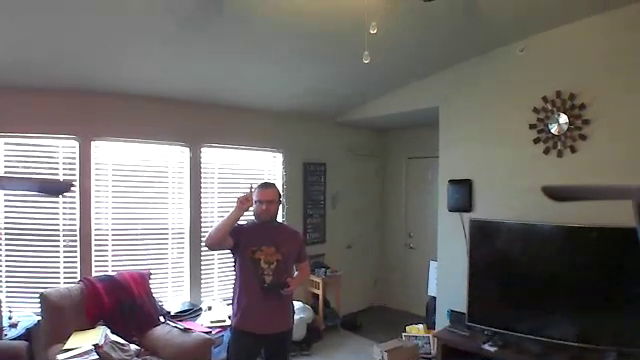up: (232, 180, 255, 213)
